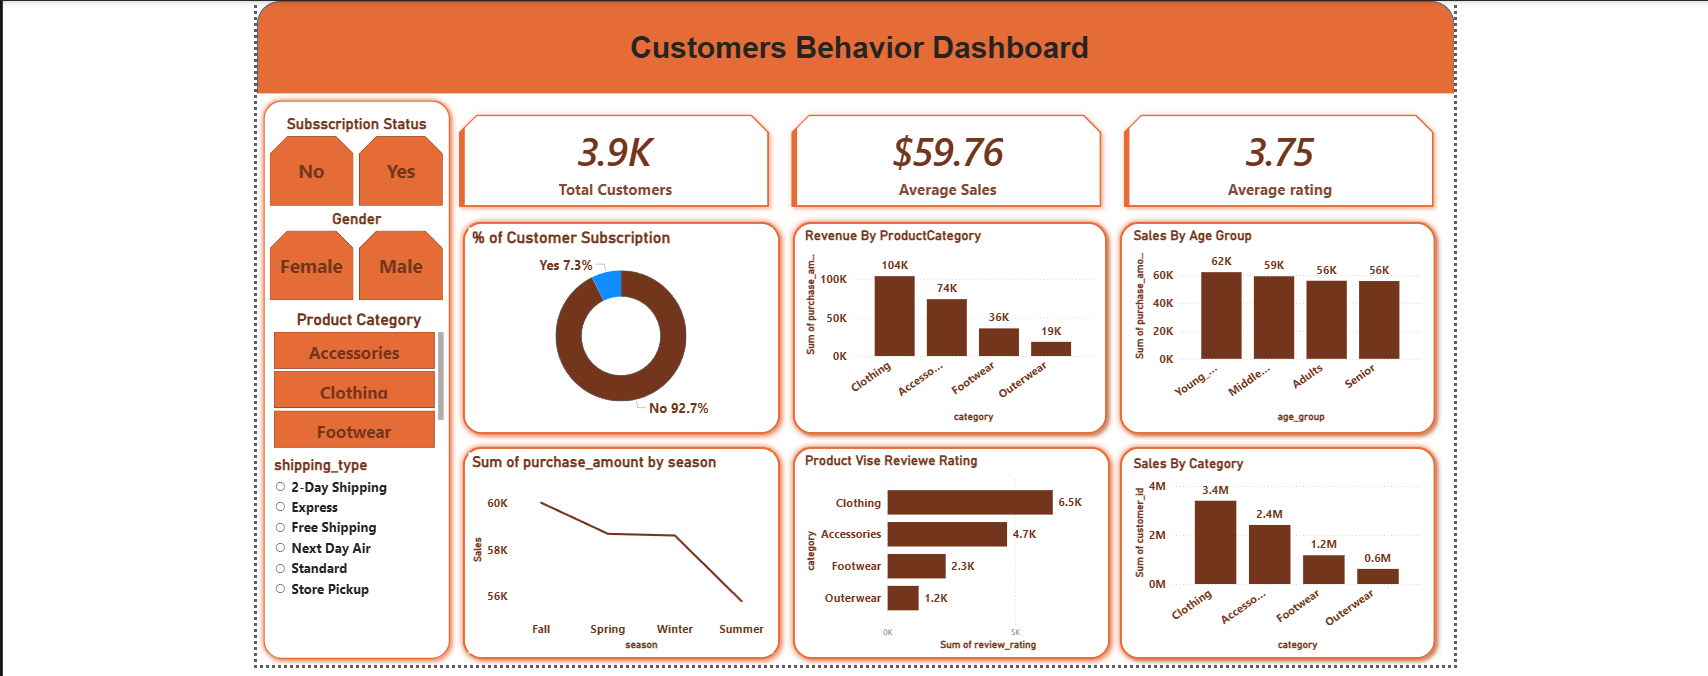

What the dashboard file says about the page in this screenshot:
{"tool":"powerbi","page":{"name":"Page 1","canvas":[1700,943],"ordinal":0},"visuals":[{"type":"cardVisual","fields":{"Data":["customer_shopping_behavior_cleaned.Total Customers","customer_shopping_behavior_cleaned.Average Sales","customer_shopping_behavior_cleaned.Average rating"]},"box":[257.8,132.1,1442.2,189.6],"z":0},{"type":"shape","box":[0,0,1700.6,131.5],"z":1000},{"type":"textbox","box":[0,35.2,1700.6,83.4],"z":2000},{"type":"shape","box":[283.3,304.6,468.7,319.5],"z":3000},{"type":"shape","box":[752,304.6,464.4,319.5],"z":4000},{"type":"shape","box":[1216.4,304.6,466.5,319.5],"z":5000},{"type":"donutChart","title":"% of Customer Subscription ","fields":{"Series":["customer_shopping_behavior_cleaned.subscription_status"],"Y":["Sum(customer_shopping_behavior_cleaned.customer_id)"]},"box":[300.4,321.7,432.5,281.2],"z":6000},{"type":"clusteredColumnChart","title":"Revenue By ProductCategory","fields":{"Category":["customer_shopping_behavior_cleaned.category"],"Y":["Sum(customer_shopping_behavior_cleaned.purchase_amount)"]},"box":[773.3,321.7,419.7,281.2],"z":7000},{"type":"clusteredColumnChart","title":"Sales By Age Group","fields":{"Category":["customer_shopping_behavior_cleaned.age_group"],"Y":["Sum(customer_shopping_behavior_cleaned.purchase_amount)"]},"box":[1239.8,321.7,419.7,281.2],"z":8000},{"type":"shape","box":[283.3,624.2,468.7,319.5],"z":9000},{"type":"shape","box":[752,624.2,468.7,319.5],"z":10000},{"type":"lineChart","fields":{"Category":["customer_shopping_behavior_cleaned.season"],"Y":["Sum(customer_shopping_behavior_cleaned.purchase_amount)"]},"box":[300.4,641.2,432.5,285.5],"z":11000},{"type":"clusteredBarChart","title":"Product Vise Reviewe Rating","fields":{"Category":["customer_shopping_behavior_cleaned.category"],"Y":["Sum(customer_shopping_behavior_cleaned.review_rating)"]},"box":[773.3,641.2,419.7,285.5],"z":12000},{"type":"shape","box":[1216.4,624.2,466.5,319.5],"z":13000},{"type":"clusteredColumnChart","title":"Sales By Category","fields":{"Category":["customer_shopping_behavior_cleaned.category"],"Y":["Sum(customer_shopping_behavior_cleaned.customer_id)"]},"box":[1239.8,645.5,419.7,281.2],"z":14000},{"type":"shape","box":[0,132.1,283.3,811.7],"z":15000},{"type":"advancedSlicerVisual","title":"Subsscription Status","fields":{"Values":["customer_shopping_behavior_cleaned.subscription_status"]},"box":[12.8,161.9,257.8,134.2],"z":16000},{"type":"advancedSlicerVisual","title":"Gender","fields":{"Values":["customer_shopping_behavior_cleaned.gender"]},"box":[12.8,296.1,257.8,134.2],"z":17000},{"type":"advancedSlicerVisual","title":"Product Category","fields":{"Values":["customer_shopping_behavior_cleaned.category"]},"box":[19.2,438.8,251.4,202.4],"z":18000},{"type":"listSlicer","fields":{"Values":["customer_shopping_behavior_cleaned.shipping_type"]},"box":[19.2,645.5,238.6,268.4],"z":19000}]}

Visuals, with their boxes in screenshot pixels (x1, y1, x2, y2):
cardVisual - customer_shopping_behavior_cleaned.Total Customers x customer_shopping_behavior_cleaned.Average Sales: (left=431, top=93, right=1451, bottom=227)
shape: (left=249, top=0, right=1451, bottom=93)
textbox: (left=249, top=25, right=1451, bottom=84)
shape: (left=449, top=215, right=781, bottom=441)
shape: (left=781, top=215, right=1109, bottom=441)
shape: (left=1109, top=215, right=1439, bottom=441)
"% of Customer Subscription " donutChart: (left=461, top=227, right=767, bottom=426)
"Revenue By ProductCategory" clusteredColumnChart: (left=796, top=227, right=1093, bottom=426)
"Sales By Age Group" clusteredColumnChart: (left=1126, top=227, right=1422, bottom=426)
shape: (left=449, top=441, right=781, bottom=667)
shape: (left=781, top=441, right=1112, bottom=667)
lineChart - customer_shopping_behavior_cleaned.season x Sum(customer_shopping_behavior_cleaned.purchase_amount): (left=461, top=453, right=767, bottom=655)
"Product Vise Reviewe Rating" clusteredBarChart: (left=796, top=453, right=1093, bottom=655)
shape: (left=1109, top=441, right=1439, bottom=667)
"Sales By Category" clusteredColumnChart: (left=1126, top=456, right=1422, bottom=655)
shape: (left=249, top=93, right=449, bottom=667)
"Subsscription Status" advancedSlicerVisual: (left=258, top=114, right=440, bottom=209)
"Gender" advancedSlicerVisual: (left=258, top=209, right=440, bottom=304)
"Product Category" advancedSlicerVisual: (left=263, top=310, right=440, bottom=453)
listSlicer - customer_shopping_behavior_cleaned.shipping_type: (left=263, top=456, right=431, bottom=646)
